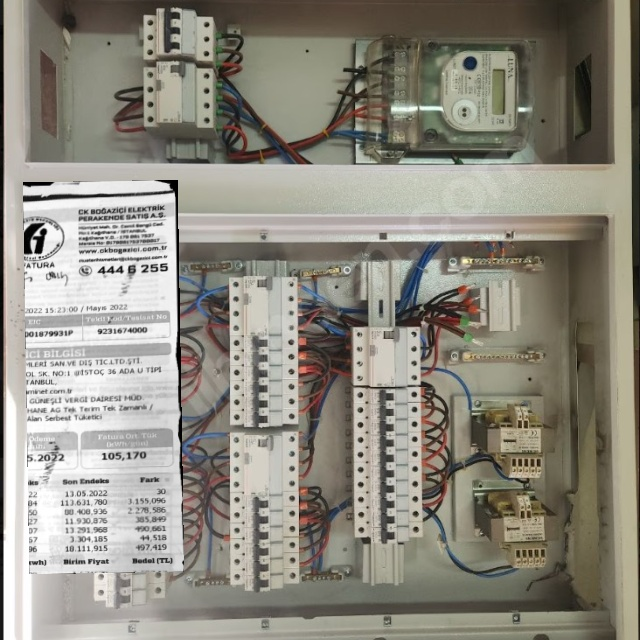electricity-bill: (23, 179, 184, 573)
